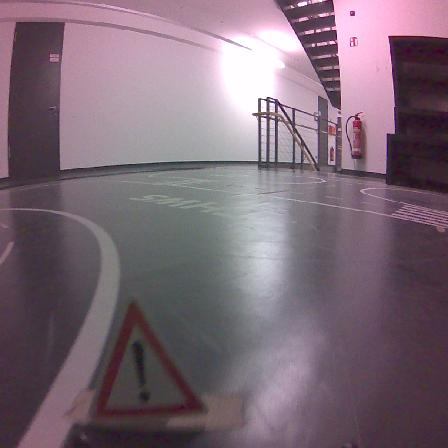ATTENTION: (95, 302, 204, 417)
